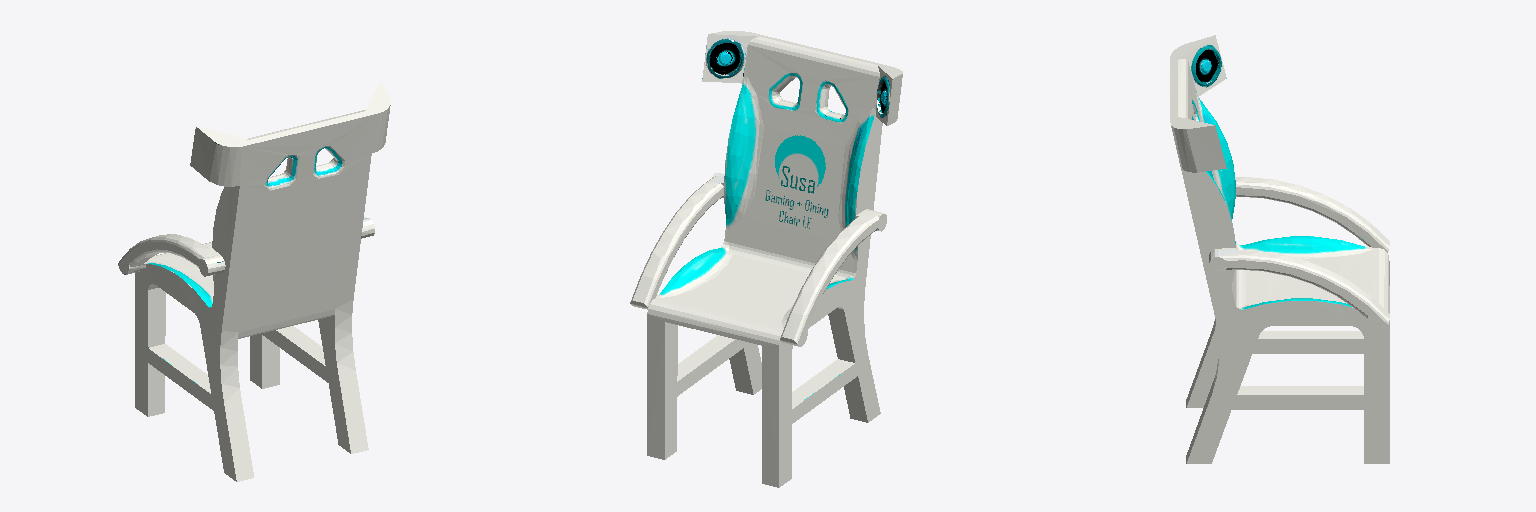
3 renders of one model, left to right at view 1: azimuth 30°, elevation 25°; view 2: azimuth 150°, elevation 25°; view 3: azimuth 270°, elevation 25°, orthographic.
Parts seen in each view (by area): view 1: Body3; view 2: Body3; view 3: Body3.
Part boxes in pixels (x1,y1,x2,y2): Body3: (118, 82, 390, 481); Body3: (630, 31, 902, 487); Body3: (1170, 35, 1389, 463).
Size of the model in its own units: 1.73 by 3.14 by 1.77.
Materials: 1 (1 with a texture image).